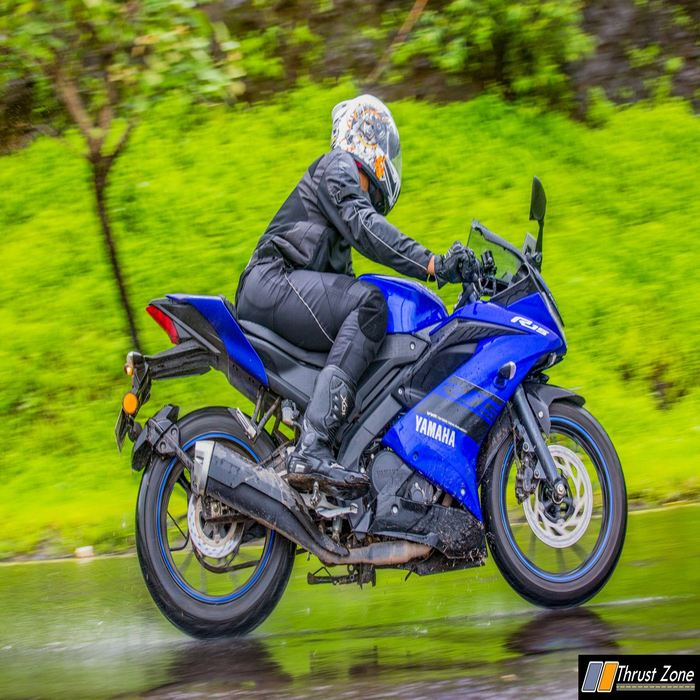h: (320, 93, 405, 218)
